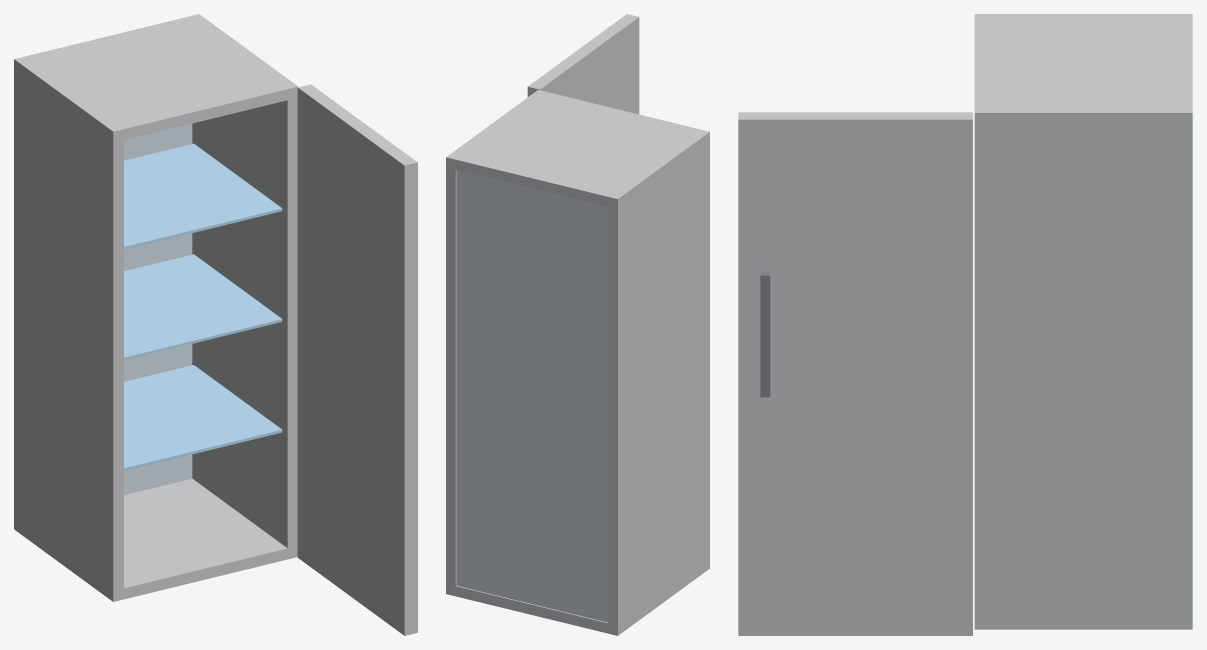
File: dog_fridge.glb
The picture shows the model from 3 angles, left to right: view 1: azimuth 30°, elevation 25°; view 2: azimuth 150°, elevation 25°; view 3: azimuth 270°, elevation 25°; orthographic projection. The views are drawn at different scales.
Parts seen in each view (by area): view 1: body_fridge_white, door_fridge_white, shelves_fridge_shelf, body_fridge_inside; view 2: body_fridge_white, body_fridge_inside, door_fridge_white; view 3: body_fridge_white, door_fridge_white, door_fridge_handle.
Part boxes in pixels (<box>): body_fridge_white: <box>14,14,298,601</box>; door_fridge_white: <box>297,84,417,635</box>; shelves_fridge_shelf: <box>124,143,282,470</box>; body_fridge_inside: <box>124,123,192,495</box>; body_fridge_white: <box>446,90,709,635</box>; body_fridge_inside: <box>456,170,607,622</box>; door_fridge_white: <box>527,14,639,114</box>; body_fridge_white: <box>974,14,1192,629</box>; door_fridge_white: <box>738,112,972,635</box>; door_fridge_handle: <box>760,271,770,397</box>.
Size of the model in its own units: 0.775 by 1.7 by 1.35.
